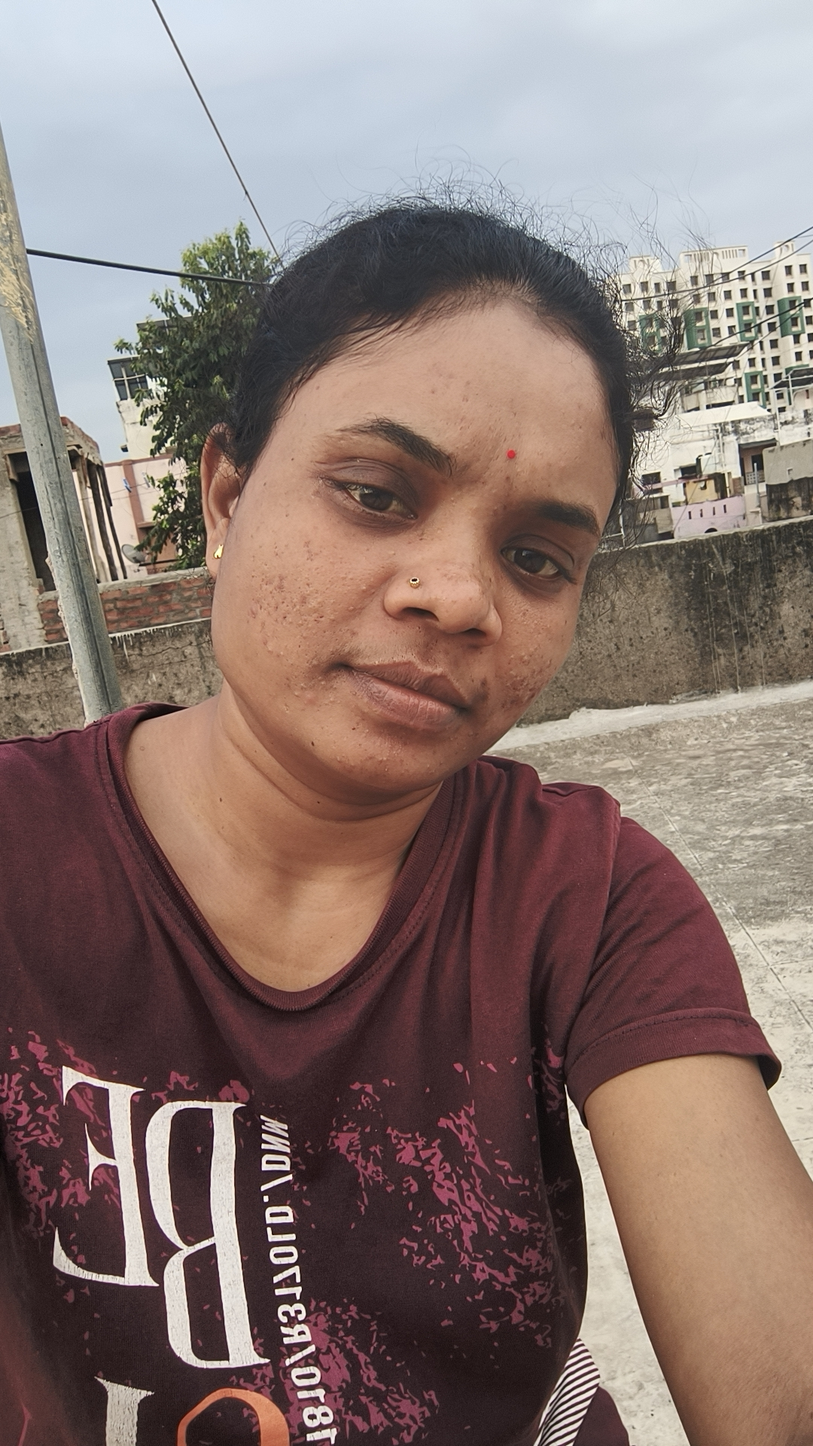closed_comedone: (389, 737, 403, 755), (447, 494, 457, 503), (490, 505, 498, 515), (363, 729, 370, 739), (328, 694, 335, 704), (330, 673, 338, 680), (391, 549, 396, 557)
macrocomedone: (519, 651, 527, 664), (377, 756, 388, 763), (509, 669, 516, 677), (292, 691, 299, 698), (279, 650, 286, 656), (330, 616, 336, 622), (510, 654, 515, 661), (361, 587, 367, 592), (468, 731, 474, 736), (303, 633, 307, 640), (336, 757, 341, 762), (320, 681, 326, 685), (288, 619, 292, 624), (425, 764, 430, 768), (385, 767, 388, 772), (462, 747, 466, 750)
nodule: (305, 693, 317, 705)
